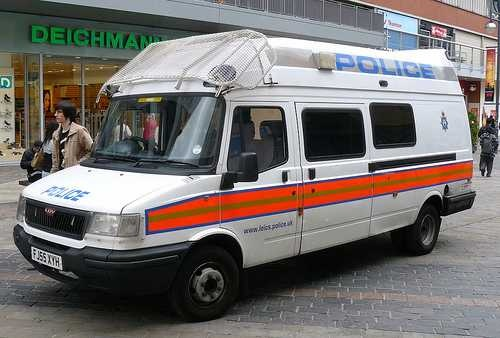Police Van: (34, 40, 481, 301)
